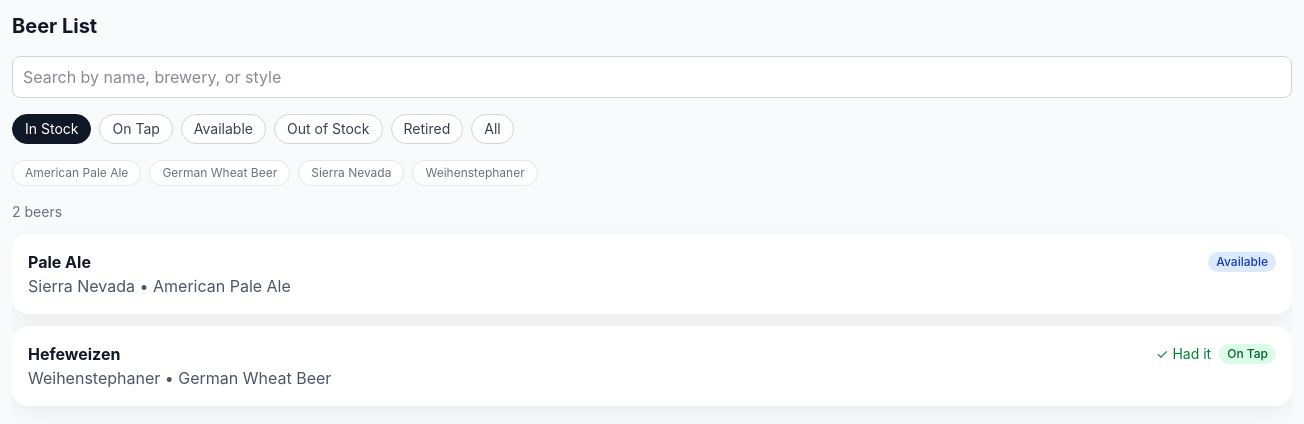
it: BeerList › clicking a style quick-filter chip fills the search box and refetches
The image size is (1304, 424).
Check: the text "Pale Ale" is shown, box [28,250,91,274]
Click the button "American Pale Ale": (77,173) [12,160,141,186]
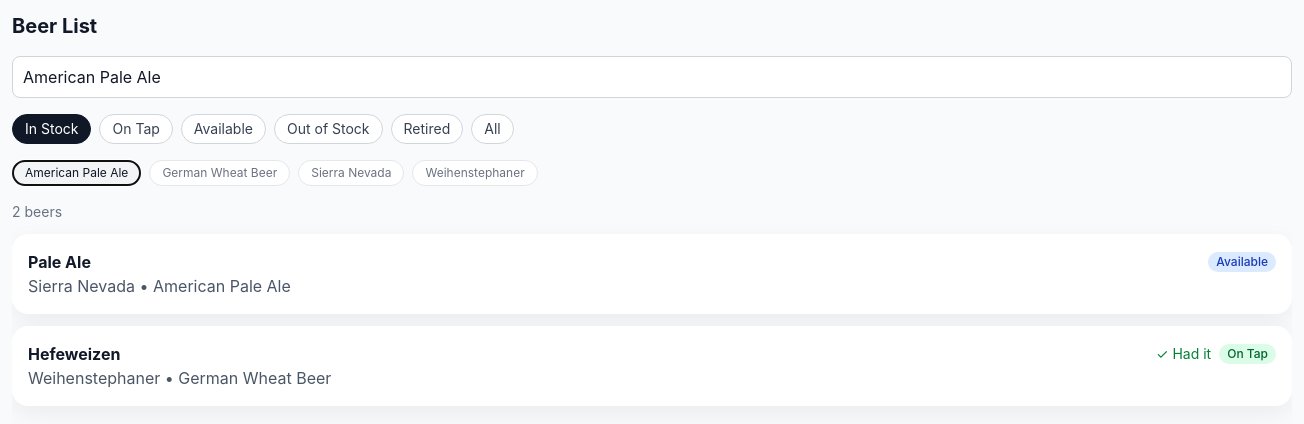
Check: the field with placeholder "Search by name, brewery, or style" holds "American Pale Ale", box [12,56,1292,98]
